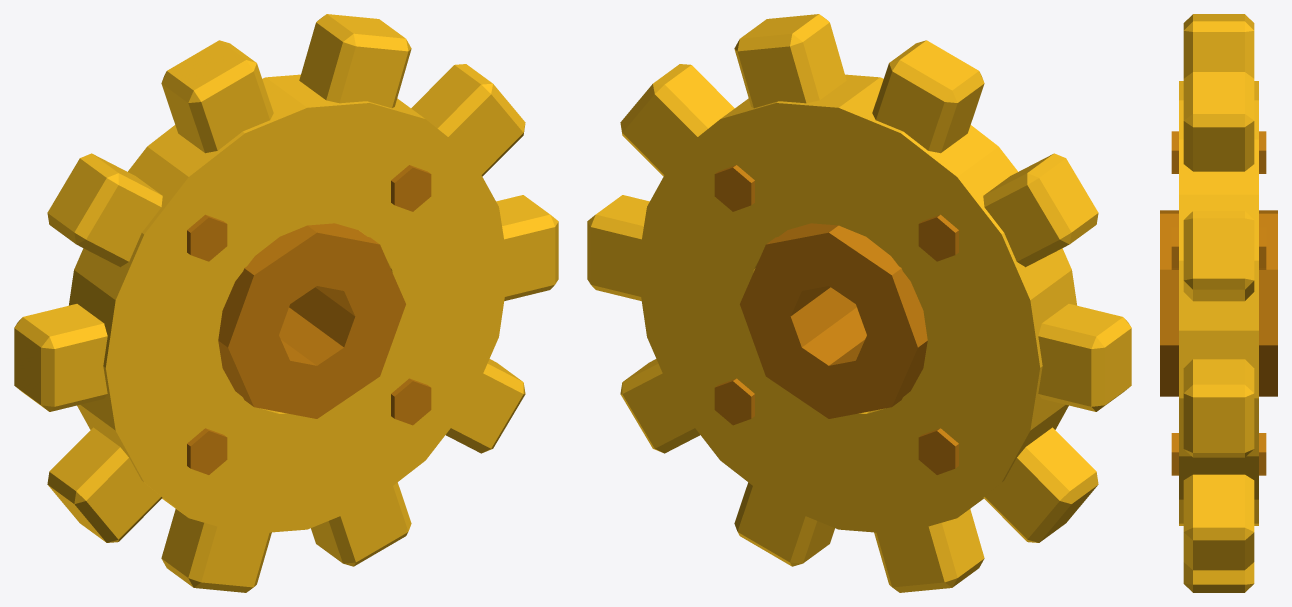
Rendered from item_gear_gold.fbx.
3 views of the same model, side by side, from view 1: azimuth 30°, elevation 25°; view 2: azimuth 150°, elevation 25°; view 3: azimuth 270°, elevation 25° (orthographic). The views are drawn at different scales.
Parts seen in each view (by area): view 1: item_gear_gold; view 2: item_gear_gold; view 3: item_gear_gold.
Boxes of the visible parts, x1,y1,x2,y2 form: item_gear_gold: [14, 14, 558, 592]; item_gear_gold: [587, 14, 1131, 592]; item_gear_gold: [1160, 14, 1277, 592].
Bounding box in the file's own units: 2.44 × 2.4 × 0.5.
